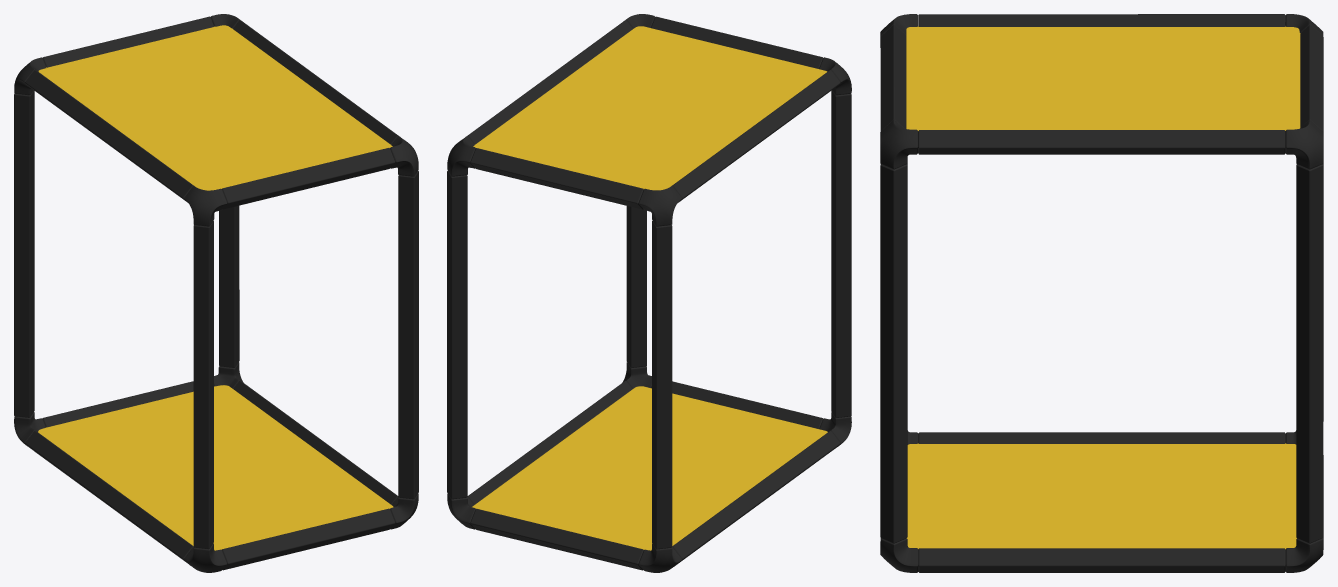
3 renders of one model, left to right at view 1: azimuth 30°, elevation 25°; view 2: azimuth 150°, elevation 25°; view 3: azimuth 270°, elevation 25°, orthographic. The views are drawn at different scales.
Parts seen in each view (by area): view 1: 229x374x420; view 2: 229x374x420; view 3: 229x374x420.
Boxes of the visible parts, box(x1,y1,x2,y2) form: 229x374x420: box(14, 14, 418, 572); 229x374x420: box(447, 14, 851, 572); 229x374x420: box(880, 14, 1323, 572).
Bounding box in the file's own units: 0.3068 × 0.4976 × 0.4512.
